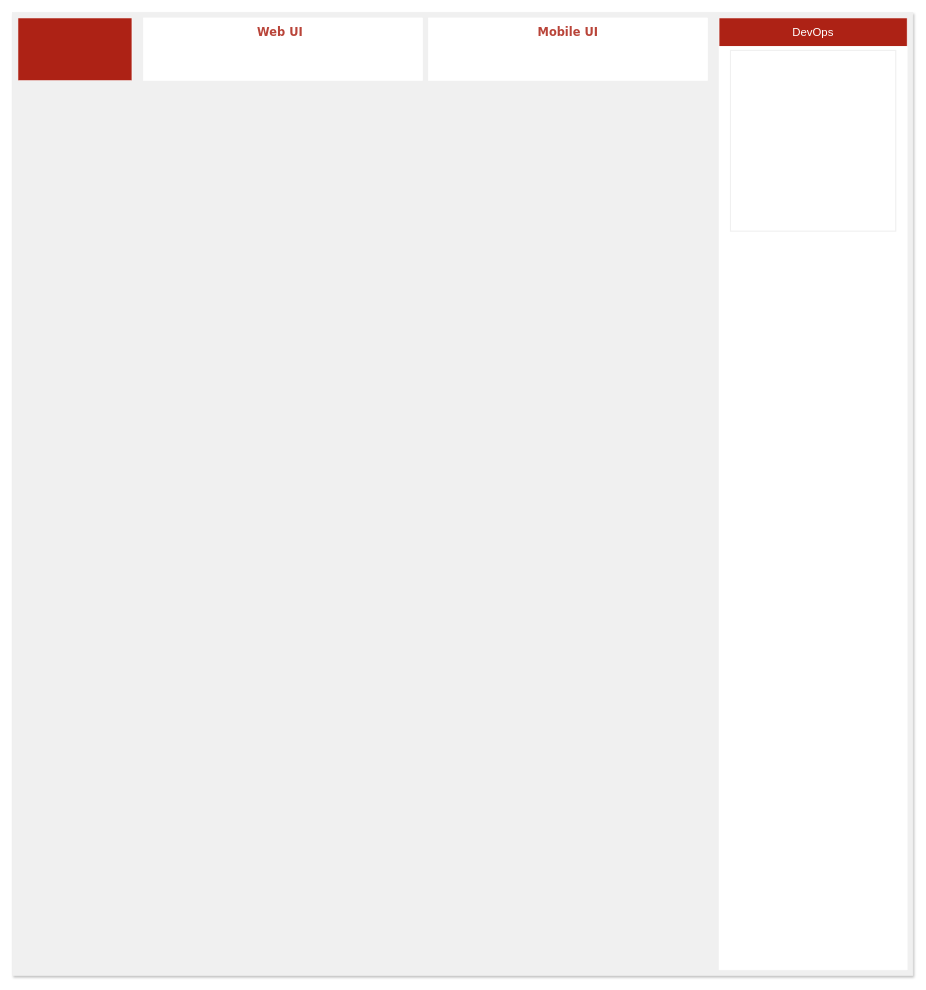
Image size: 926x990. Some labels were removed from this diagram. Here are the shapes that lost their labels. From the top down, the centre of each, then its label:
At [74,49]: "展现层".
At [813,140]: "持续集成".
